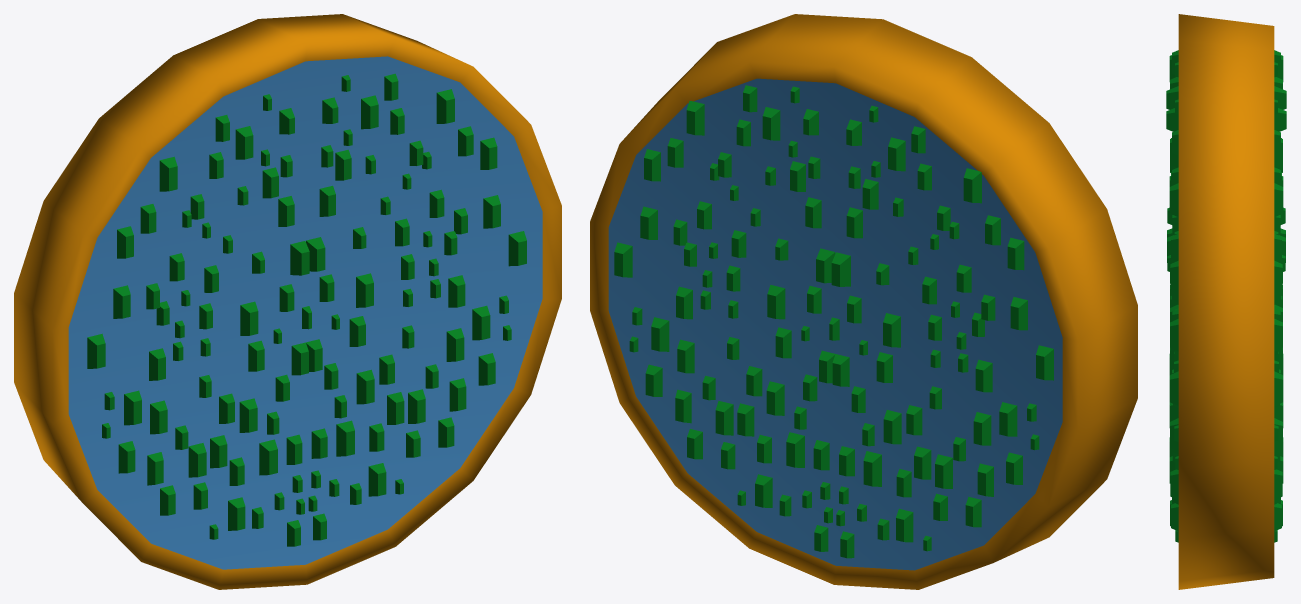
The model's file is Pitaya_ring_yellow.fbx.
The picture shows the model from 3 angles, left to right: view 1: azimuth 30°, elevation 25°; view 2: azimuth 150°, elevation 25°; view 3: azimuth 270°, elevation 25°; orthographic projection. The views are drawn at different scales.
Visible parts, largest first — view 1: Pitaya_ring_yellow; view 2: Pitaya_ring_yellow; view 3: Pitaya_ring_yellow.
Part boxes in pixels (x1,y1,x2,y2): Pitaya_ring_yellow: (14,14,561,589); Pitaya_ring_yellow: (590,14,1137,589); Pitaya_ring_yellow: (1166,14,1286,589).
Size of the model in its own units: 102 by 103 by 21.58.
